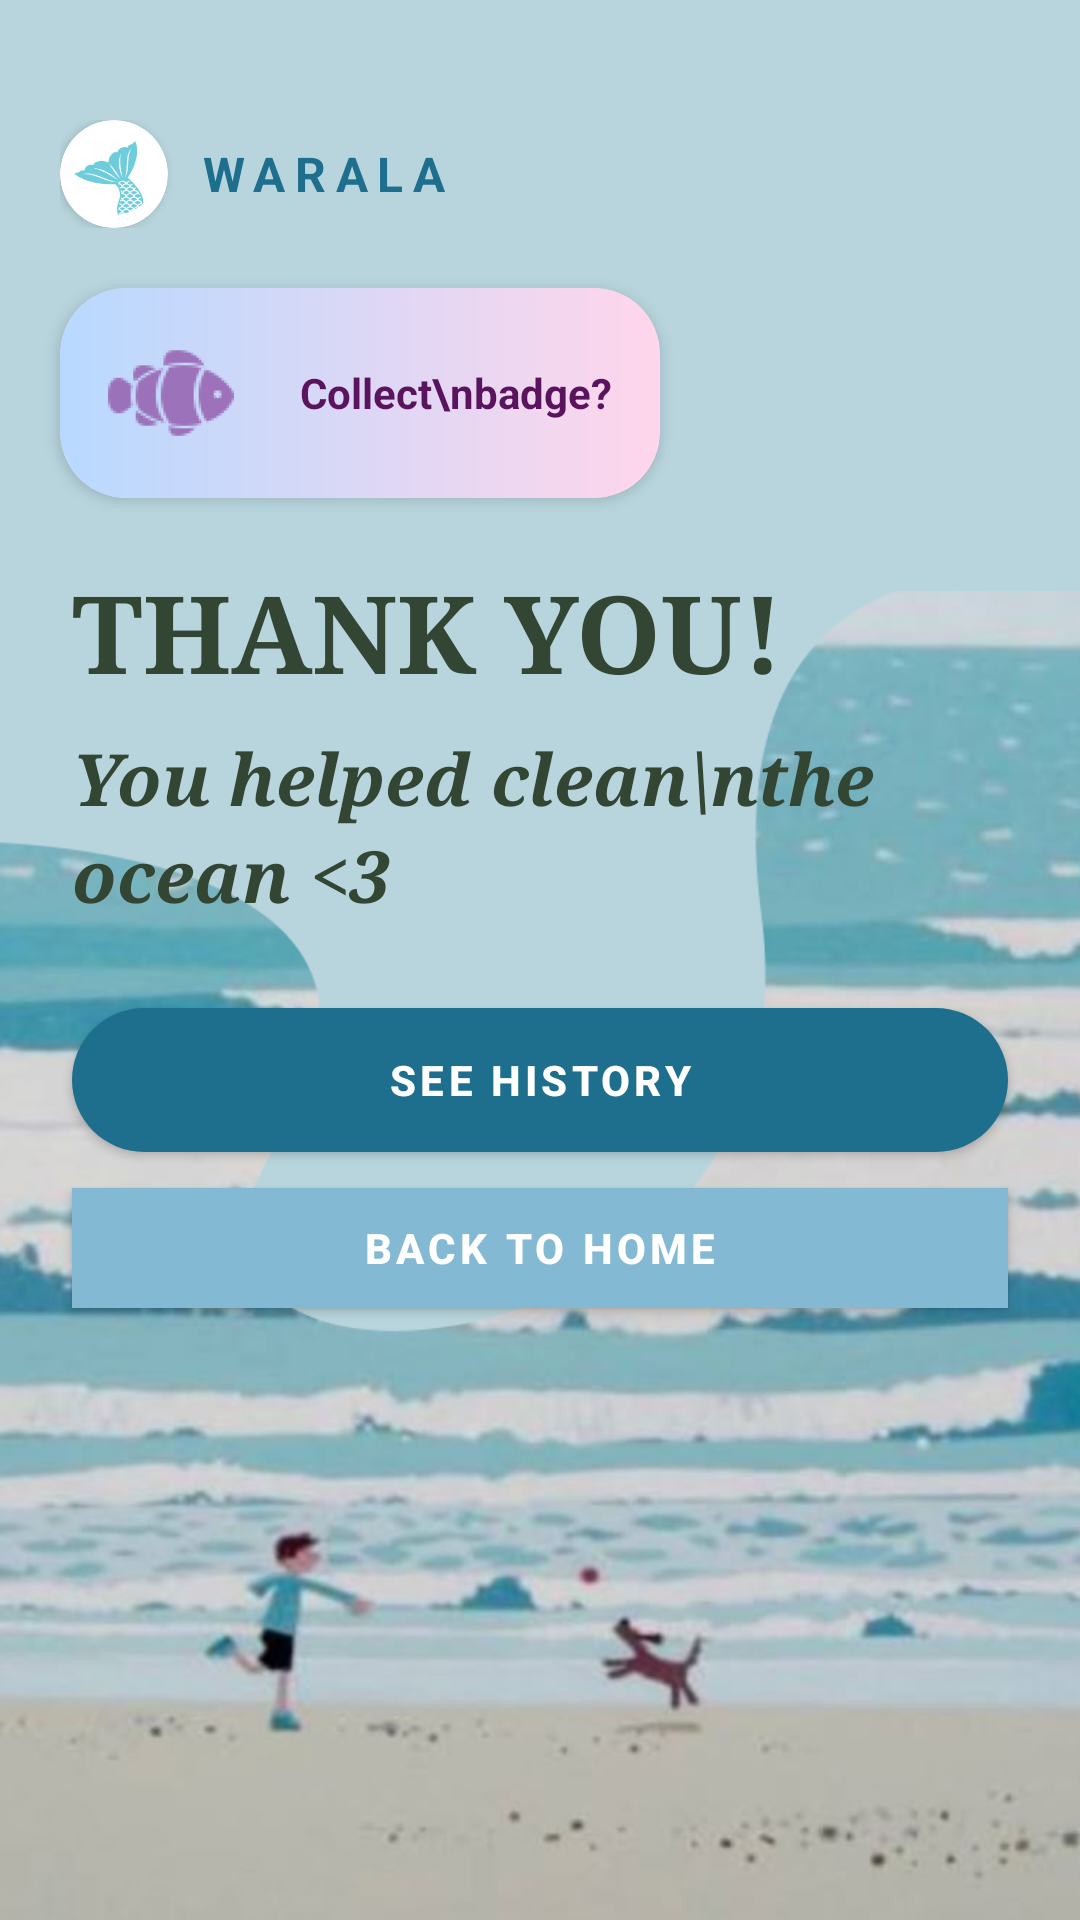

Icon bounding boxes for this 1080x1920 phone screenshot, format (x1, y1, x2, y2):
fish badge: (108, 350, 234, 436)
